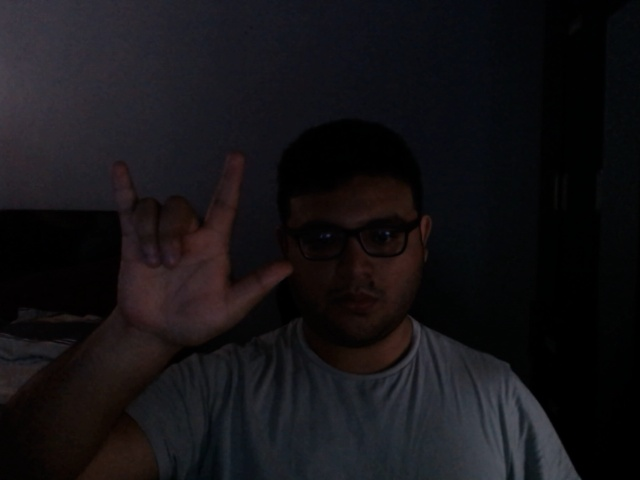I love you: (103, 147, 294, 358)
